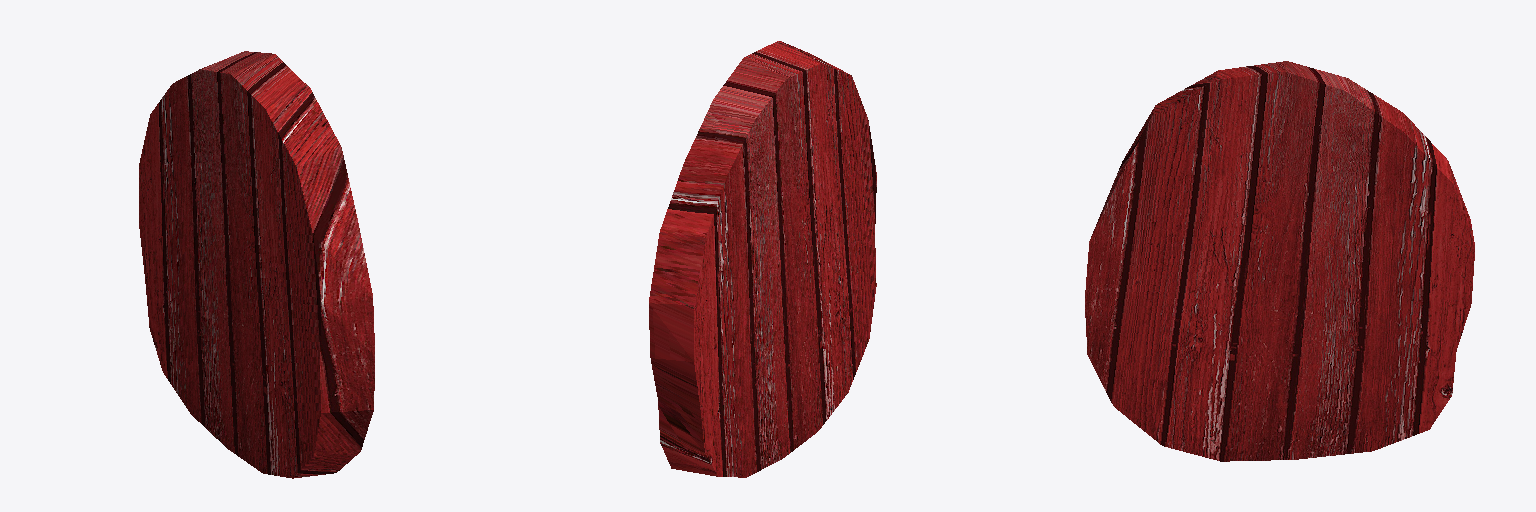
3 views of the same model, side by side, from view 1: azimuth 30°, elevation 25°; view 2: azimuth 150°, elevation 25°; view 3: azimuth 270°, elevation 25° (orthographic).
Parts seen in each view (by area): view 1: pasted__pasted__pasted__pCylinder3 pasted__pasted__group10 paste; view 2: pasted__pasted__pasted__pCylinder3 pasted__pasted__group10 paste; view 3: pasted__pasted__pasted__pCylinder3 pasted__pasted__group10 paste.
Part boxes in pixels (bbox=[...]): pasted__pasted__pasted__pCylinder3 pasted__pasted__group10 paste: bbox=[139, 51, 374, 478]; pasted__pasted__pasted__pCylinder3 pasted__pasted__group10 paste: bbox=[649, 41, 876, 477]; pasted__pasted__pasted__pCylinder3 pasted__pasted__group10 paste: bbox=[1085, 61, 1474, 461].
Size of the model in its own units: 14.74 by 127 by 115.
Materials: 1 (1 with a texture image).